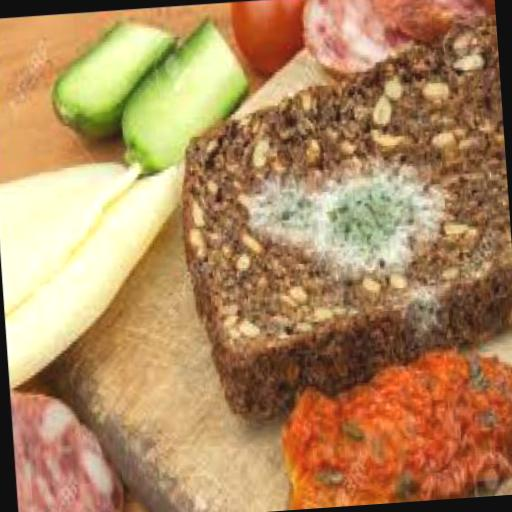biodegradable: (164, 11, 512, 425), (0, 159, 206, 390), (271, 337, 512, 508), (0, 154, 147, 309), (110, 12, 252, 168), (44, 14, 181, 137), (8, 377, 122, 512), (295, 0, 416, 77), (227, 0, 306, 73), (364, 0, 484, 44), (461, 0, 494, 16)
